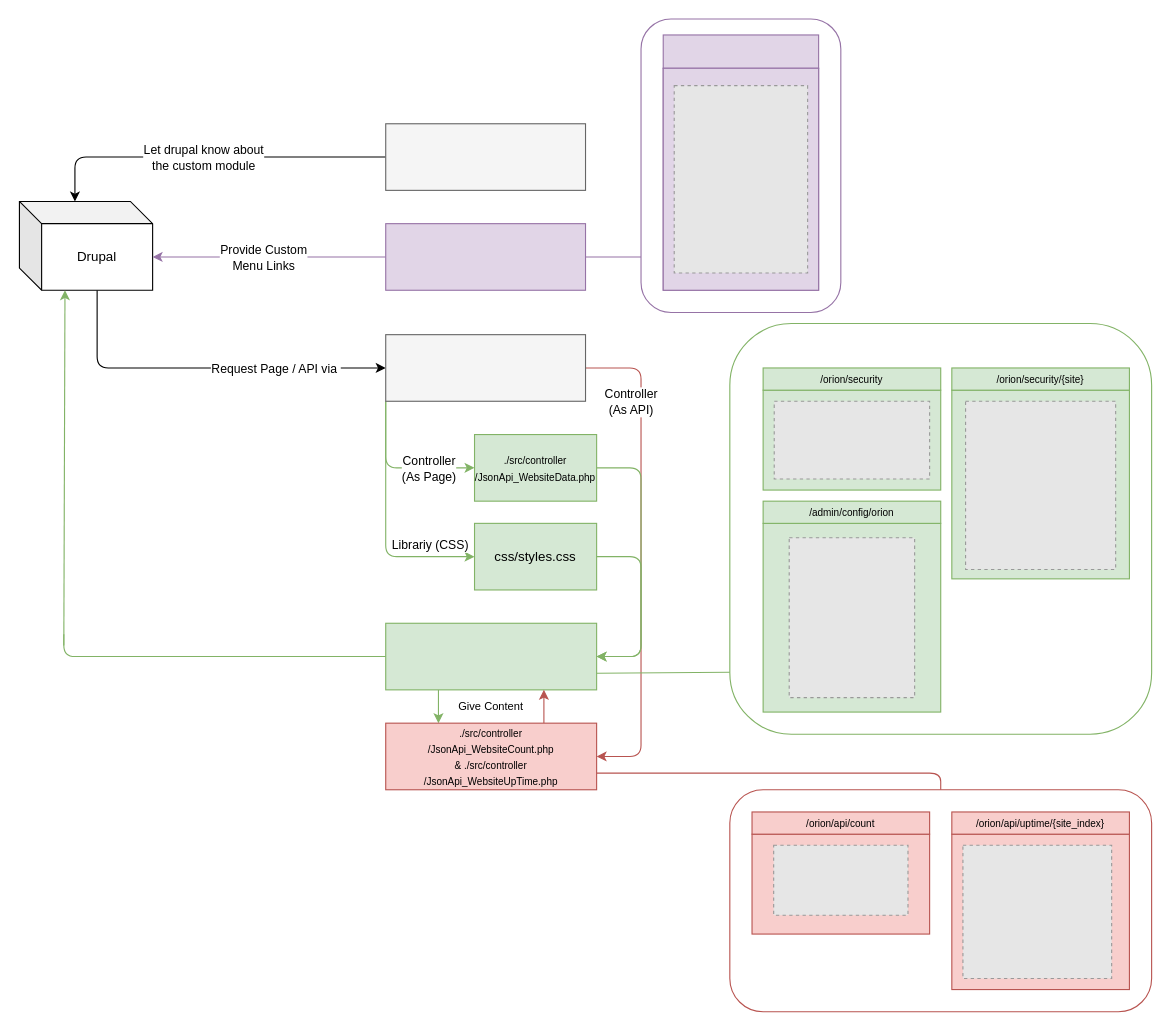
Image size: 1171x1032. Some labels were removed from this diagram. Grey dashed boxes stand in for pictures. Each missing label, with the box of its shape:
Effect of menu links: (662, 34, 819, 68)
orion.info.yml: (385, 123, 586, 190)
orion.link.menu.yml: (385, 223, 586, 290)
orion.routing.yml: (385, 334, 586, 401)
Webpage (Rendered HTML): (385, 622, 597, 690)
